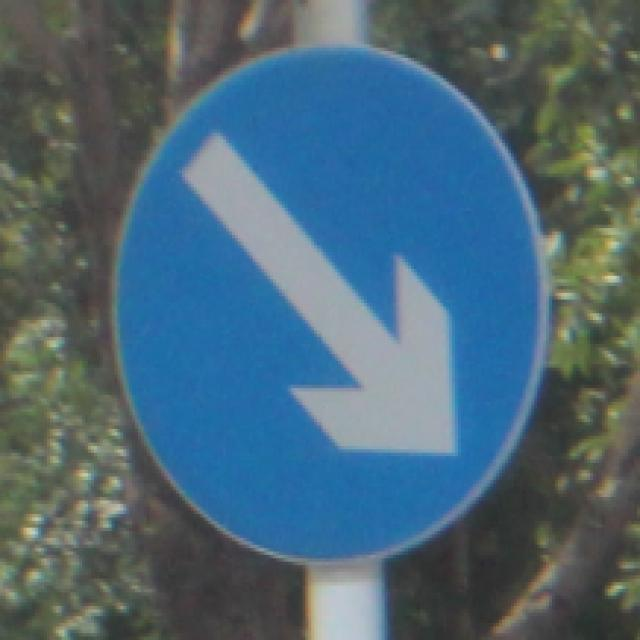Right: (108, 35, 567, 572)
